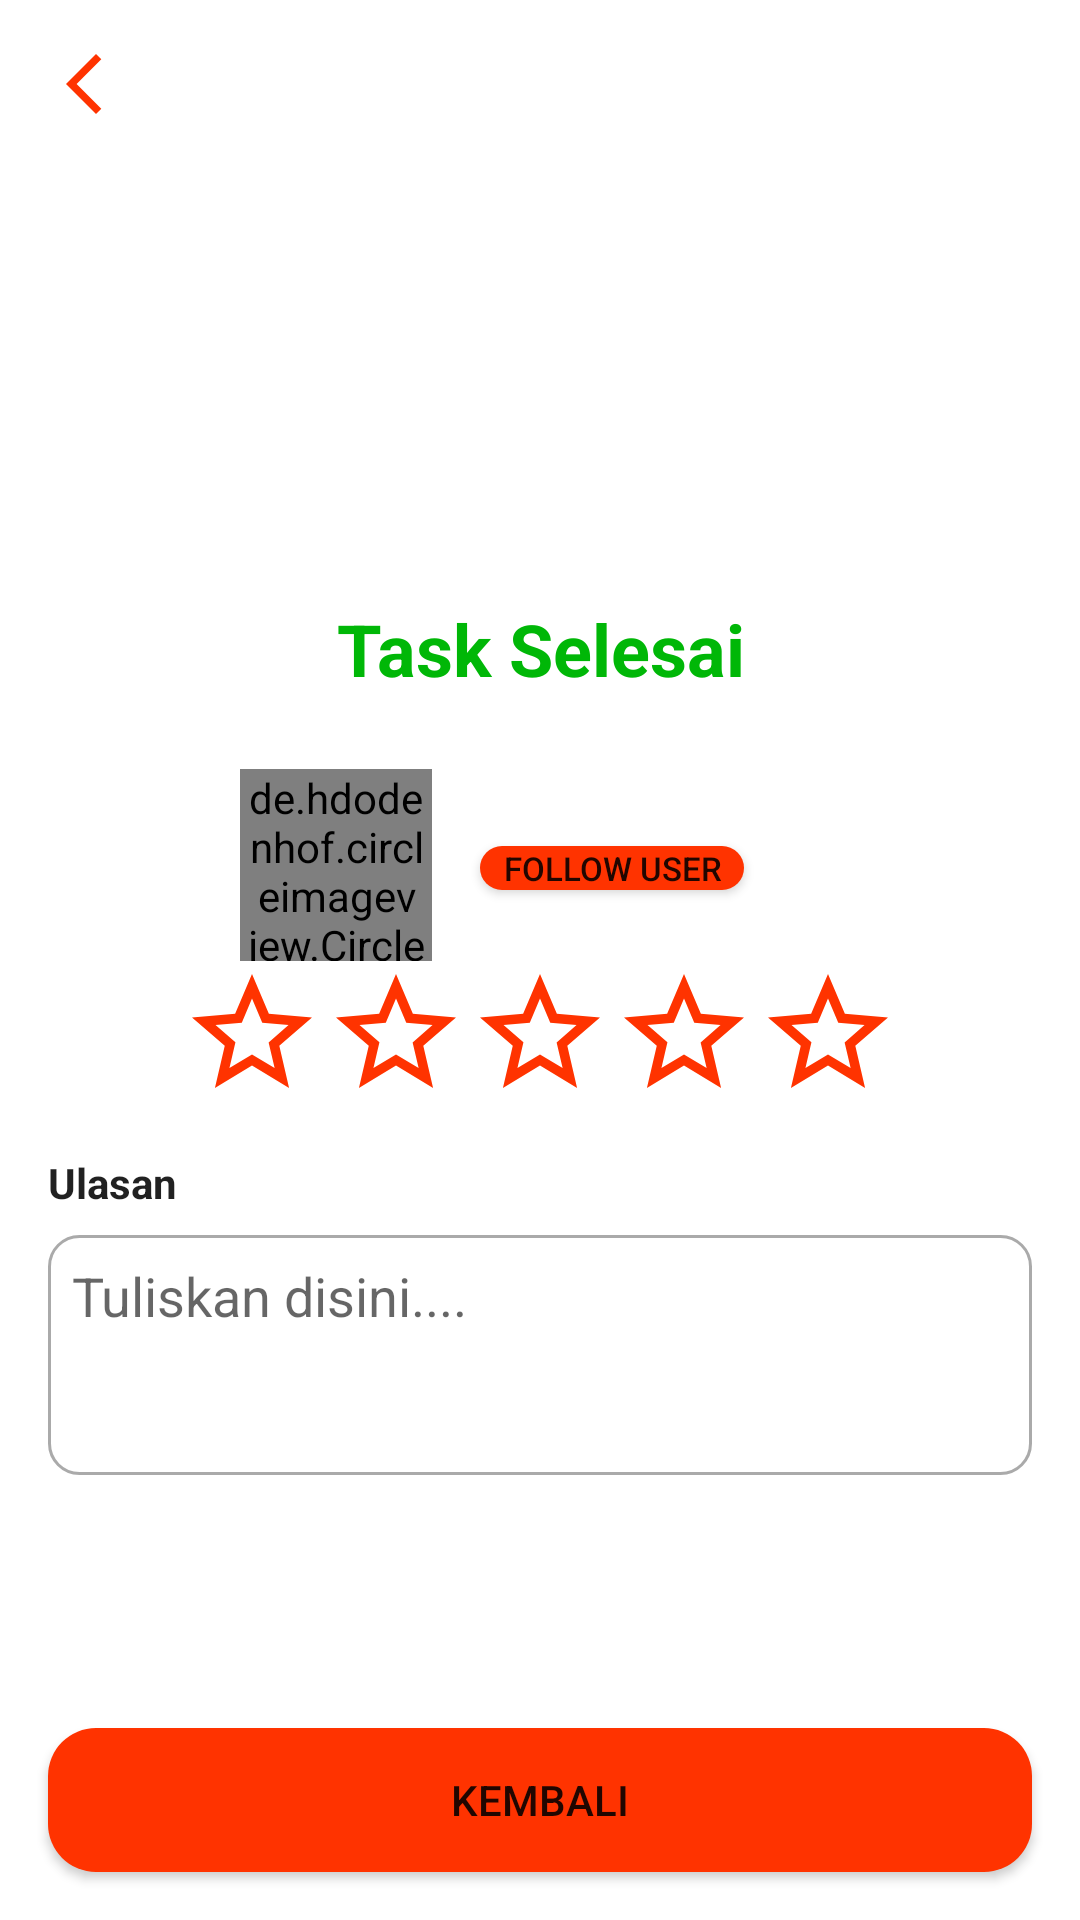

Screen size 1080px×1920px. Icon name, then its box in pixels as (x1, y1, x2, y2):
arrow back: (66, 54, 101, 114)
star: (192, 974, 312, 1088), (336, 974, 456, 1088), (480, 974, 600, 1088), (624, 974, 744, 1088), (768, 974, 888, 1088)
